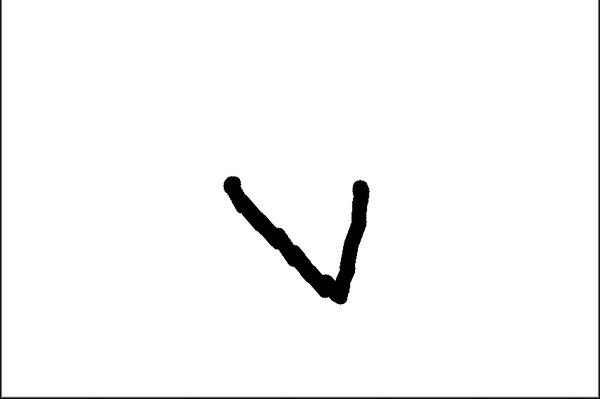V: (209, 165, 377, 314)
